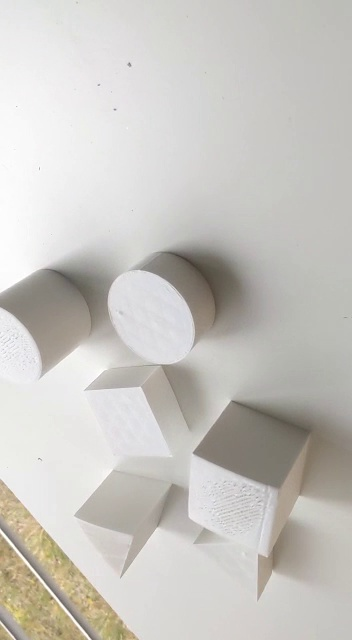Clyinder_short: (104, 247, 225, 368)
Cube: (181, 399, 310, 557)
Cube_short: (84, 364, 194, 463)
Cylinder: (1, 267, 95, 386)
Triangle: (73, 464, 173, 581)
Triangle_short: (190, 525, 277, 596)
